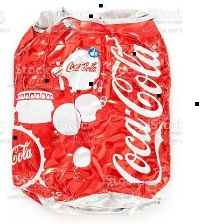can: (6, 4, 176, 218)
